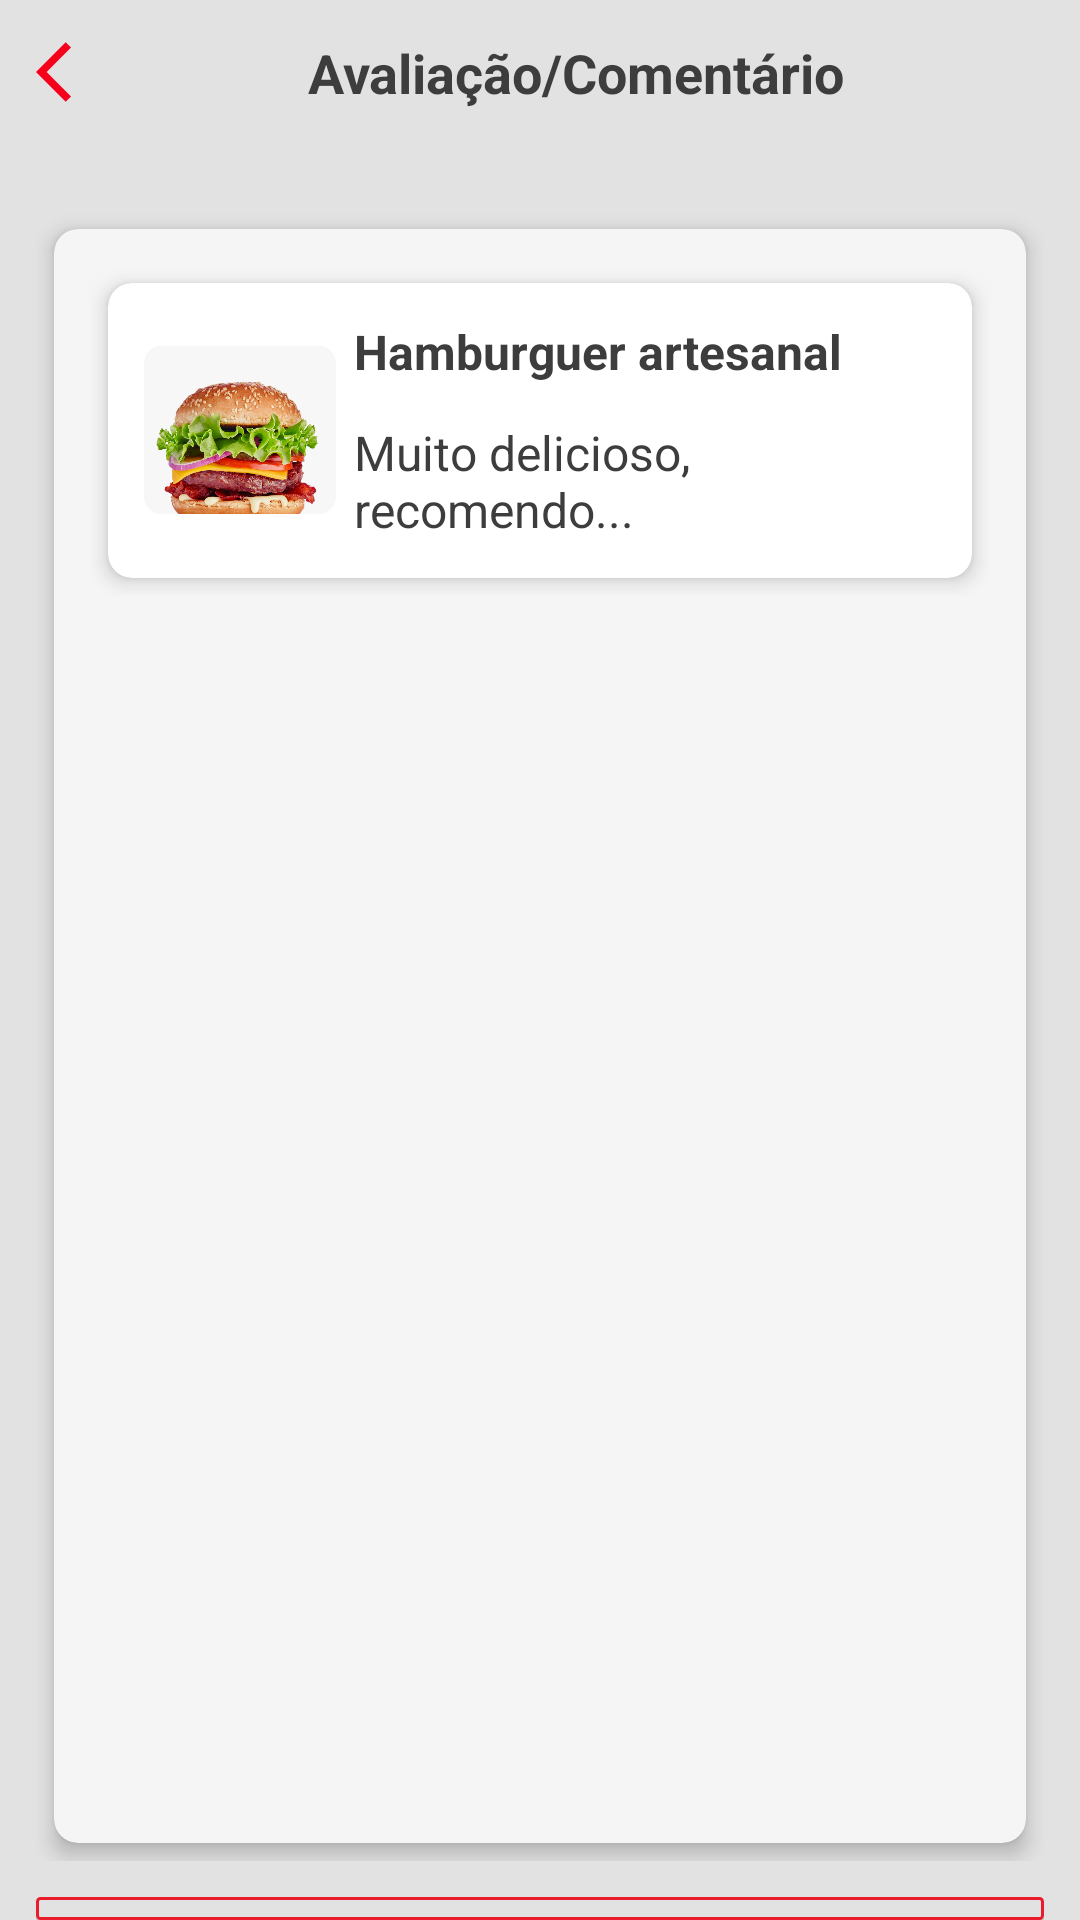

Icons on this 1080×1920 Android screen, each with the point to tap as [x,y]:
arrow back: [53,72]
